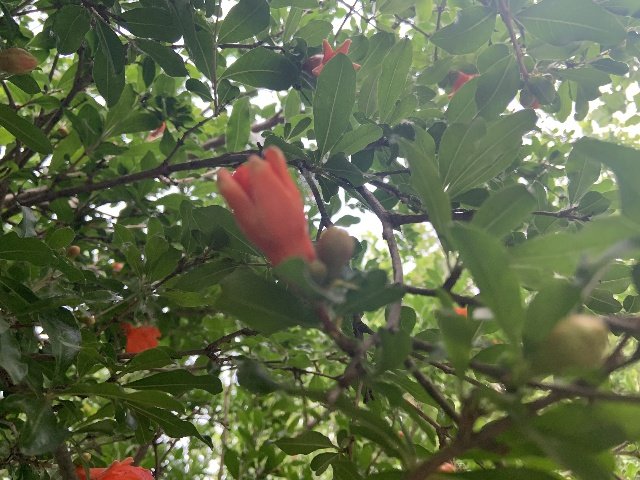bud: (317, 226, 354, 275), (0, 47, 37, 74), (67, 245, 80, 260)
flower: (215, 144, 316, 270), (302, 36, 360, 76), (72, 456, 160, 480), (119, 321, 161, 354)
